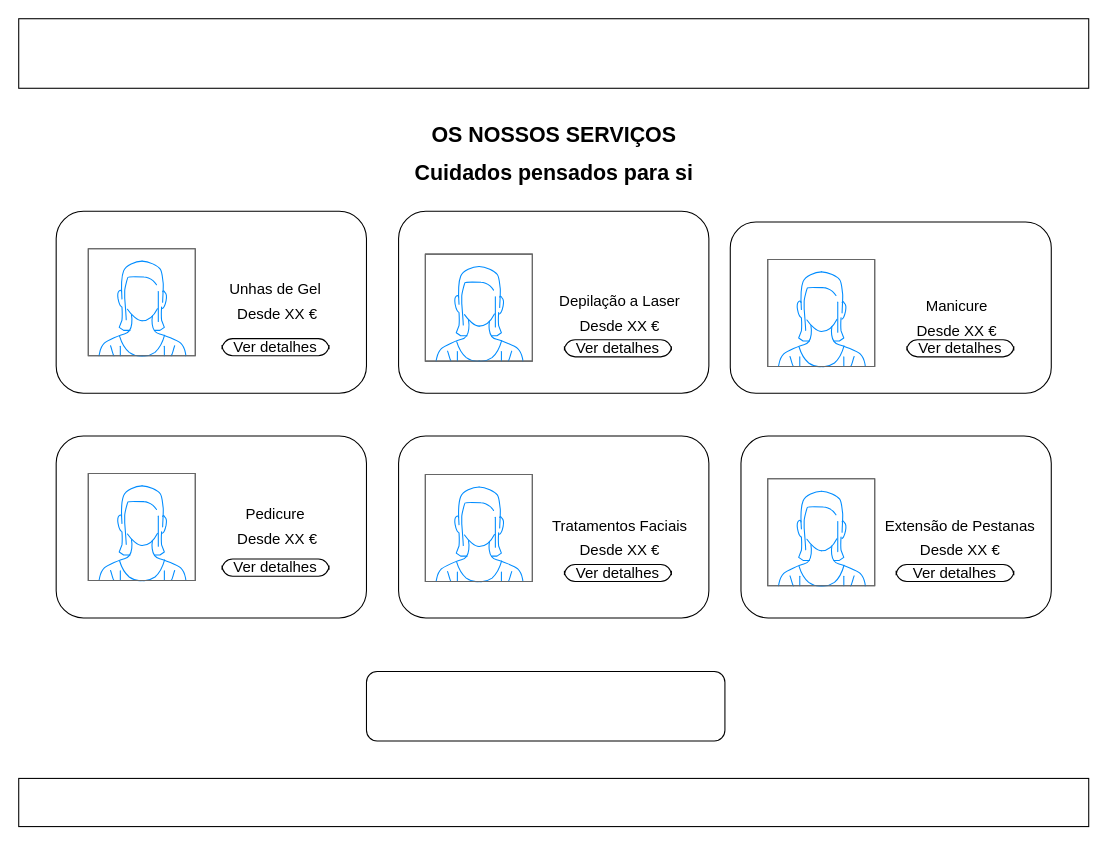
Some shapes in this 1107 by 845 pixel diagram are drawn without their labels. The centre of each missing label's shape, as x and y in pixels:
Fazer marcação: the point at 545,705
SERENA Contactos | Horário | Redes sociais: the point at 553,802
SERENA Início | Sobre nós | Serviços | Marcações | Registo | Contactos: the point at 553,53
